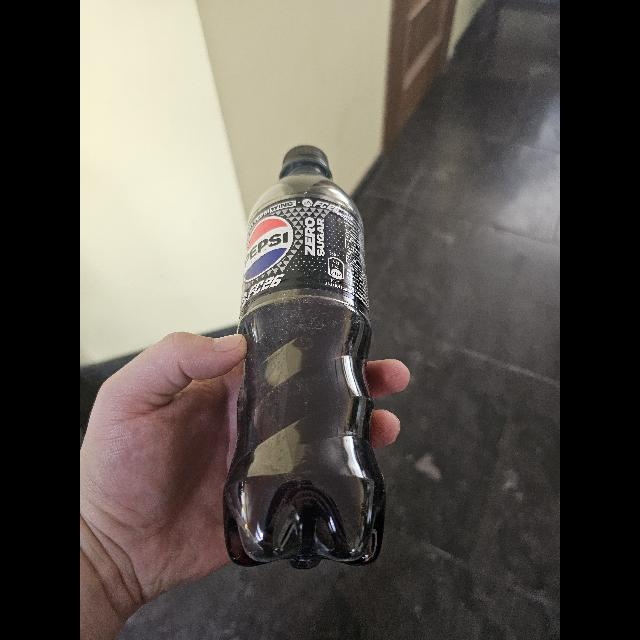Plastic: (218, 144, 382, 568)
